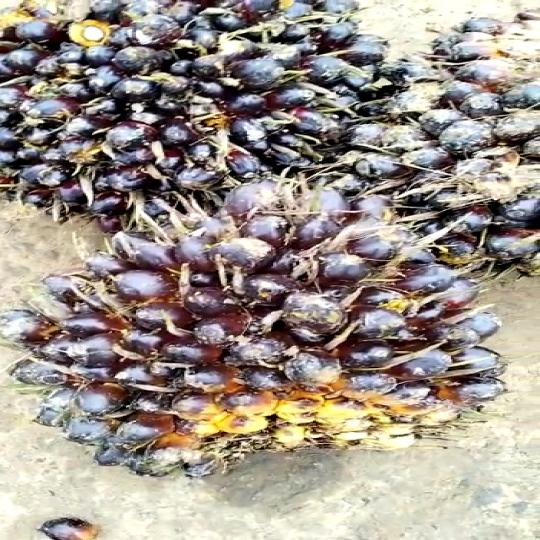mentah: (0, 0, 538, 467)
